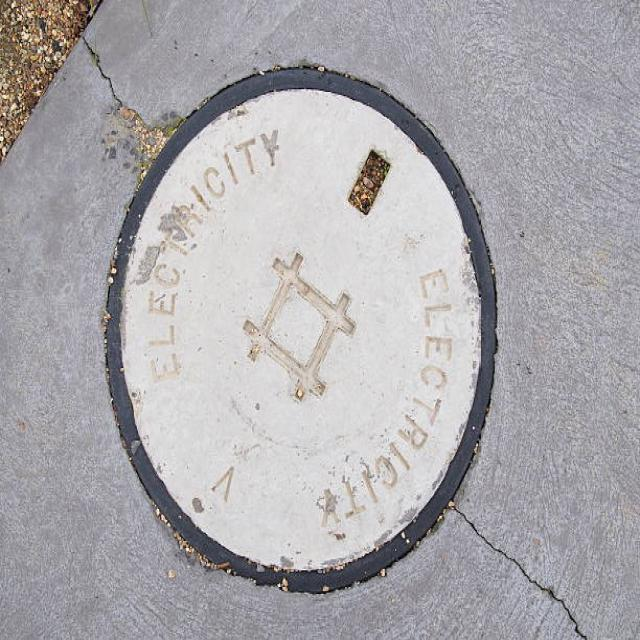Good: (94, 53, 505, 598)
